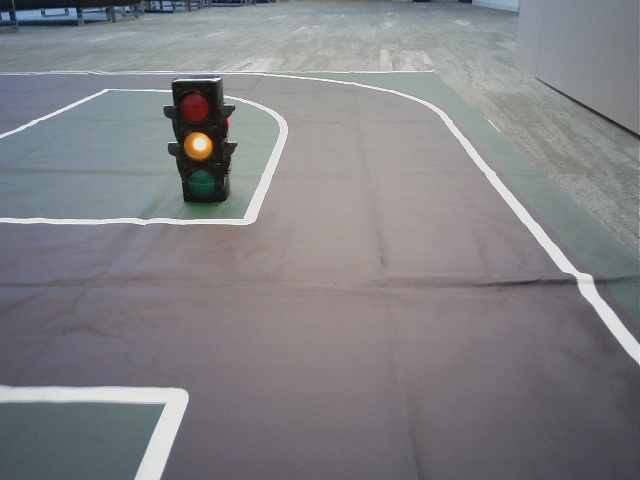yellow: (176, 84, 220, 197)
